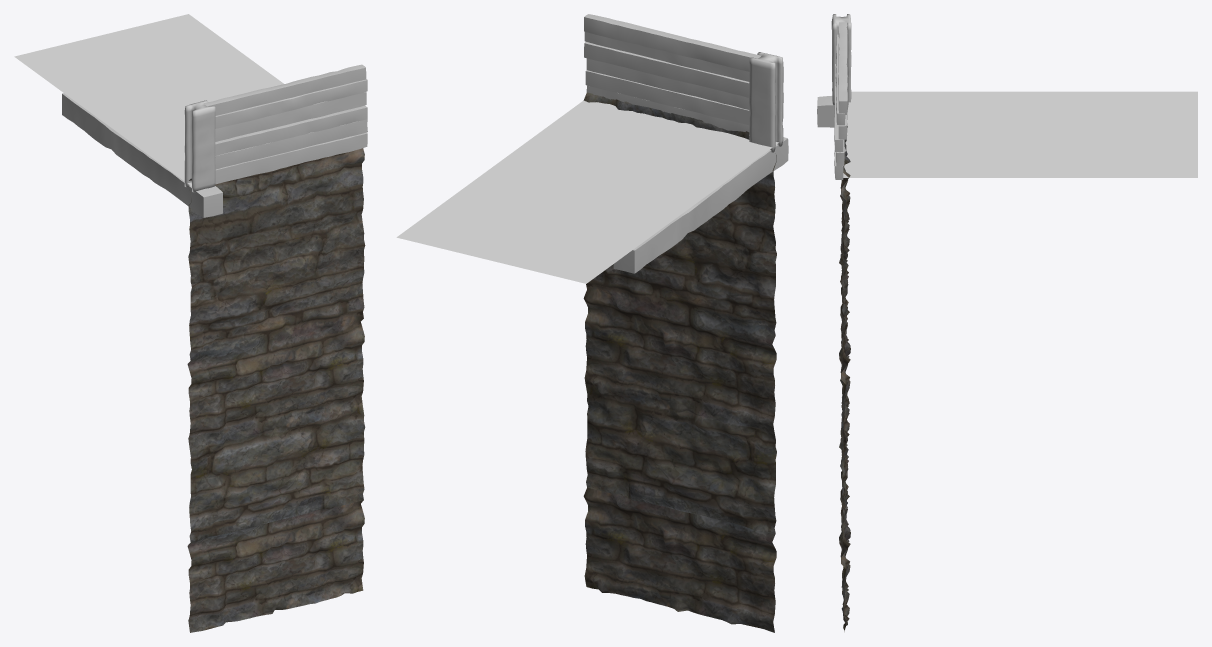
Rendered from Steinmauer_v2_joint.fbx.
The picture shows the model from 3 angles, left to right: view 1: azimuth 30°, elevation 25°; view 2: azimuth 150°, elevation 25°; view 3: azimuth 270°, elevation 25°; orthographic projection. The views are drawn at different scales.
Parts seen in each view (by area): view 1: Steinmauer_v2_joint_LOD0; view 2: Steinmauer_v2_joint_LOD0; view 3: Steinmauer_v2_joint_LOD0.
Part boxes in pixels (x1=…): Steinmauer_v2_joint_LOD0: x1=14, y1=14, x2=367, y2=632; Steinmauer_v2_joint_LOD0: x1=396, y1=14, x2=788, y2=632; Steinmauer_v2_joint_LOD0: x1=817, y1=14, x2=1197, y2=631.
Size of what is drawn, in the model's own units: 133 by 376 by 243.
